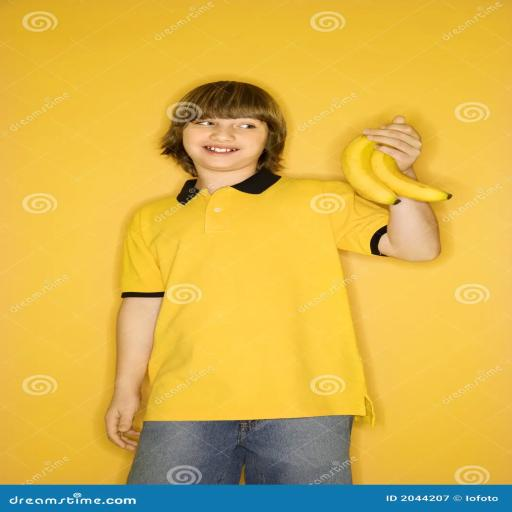banana: (370, 150, 452, 201), (342, 136, 400, 204)
